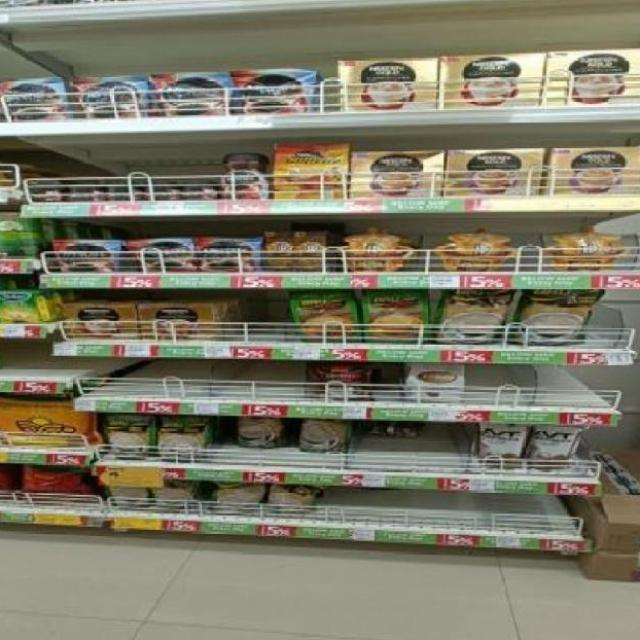Coffee: (274, 145, 347, 202), (159, 74, 233, 116), (239, 72, 312, 114), (77, 79, 141, 117), (1, 80, 61, 119), (221, 153, 270, 200), (133, 240, 192, 275), (56, 241, 115, 273), (200, 239, 256, 271), (64, 182, 103, 202), (25, 183, 60, 201), (181, 181, 215, 199), (108, 183, 141, 201), (145, 182, 176, 200)
